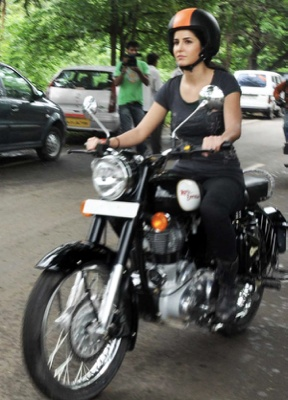helmet: (161, 5, 225, 76)
